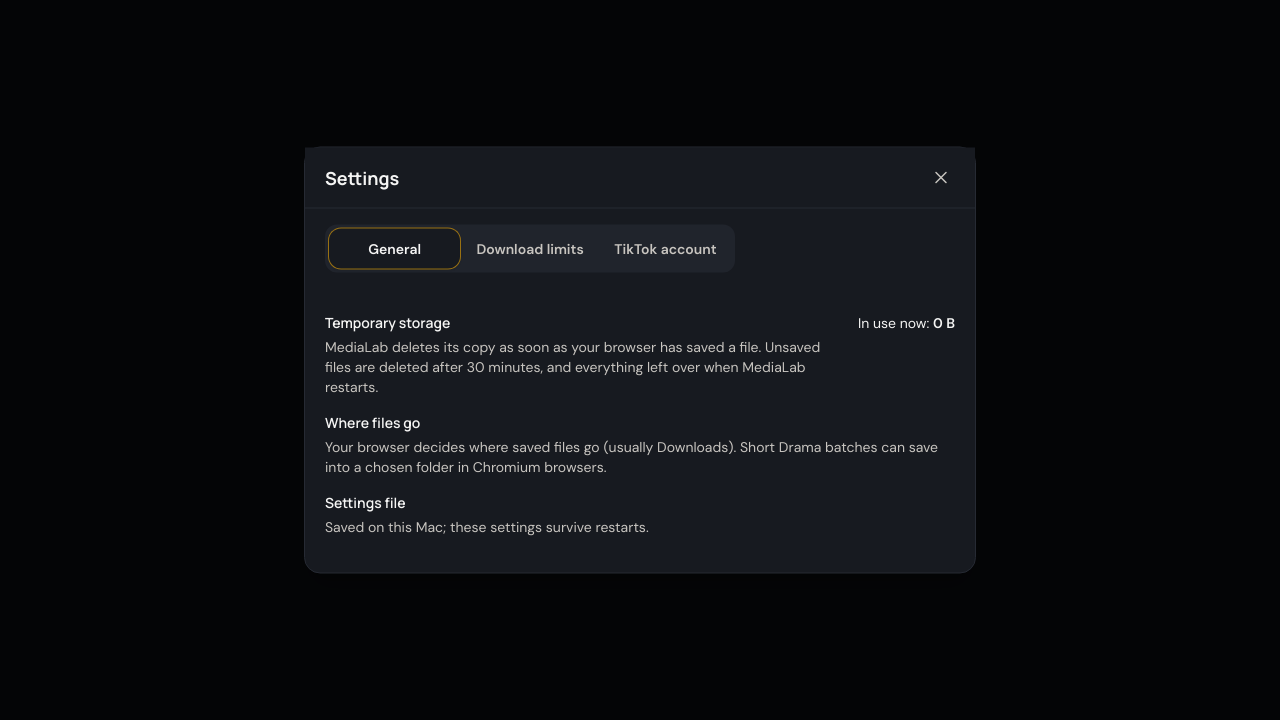
it: Settings dialog › is organised in sections and saves limits through the existing API
Expected: the dialog "Settings" is shown, [304, 146, 976, 574]
Click the tab "Download limits".
click(530, 248)  # box [464, 228, 596, 268]
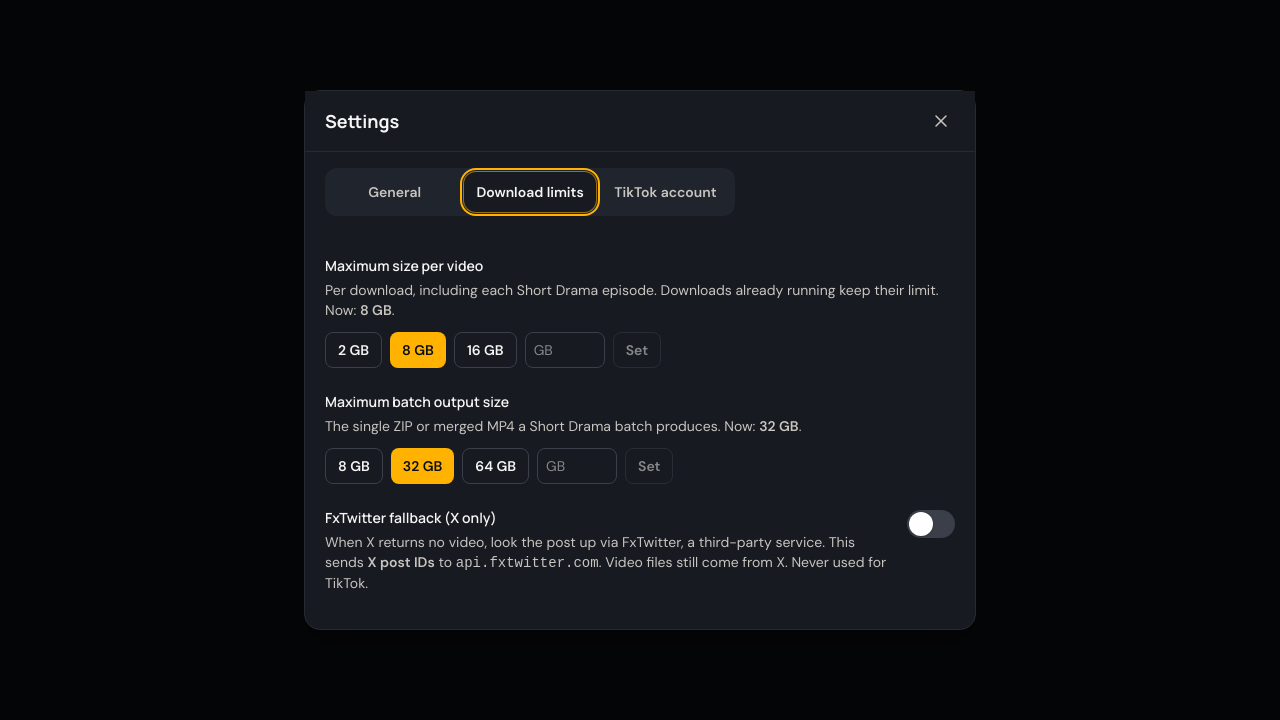
Click the button "16 GB".
click(485, 350)  # box [454, 332, 517, 368]
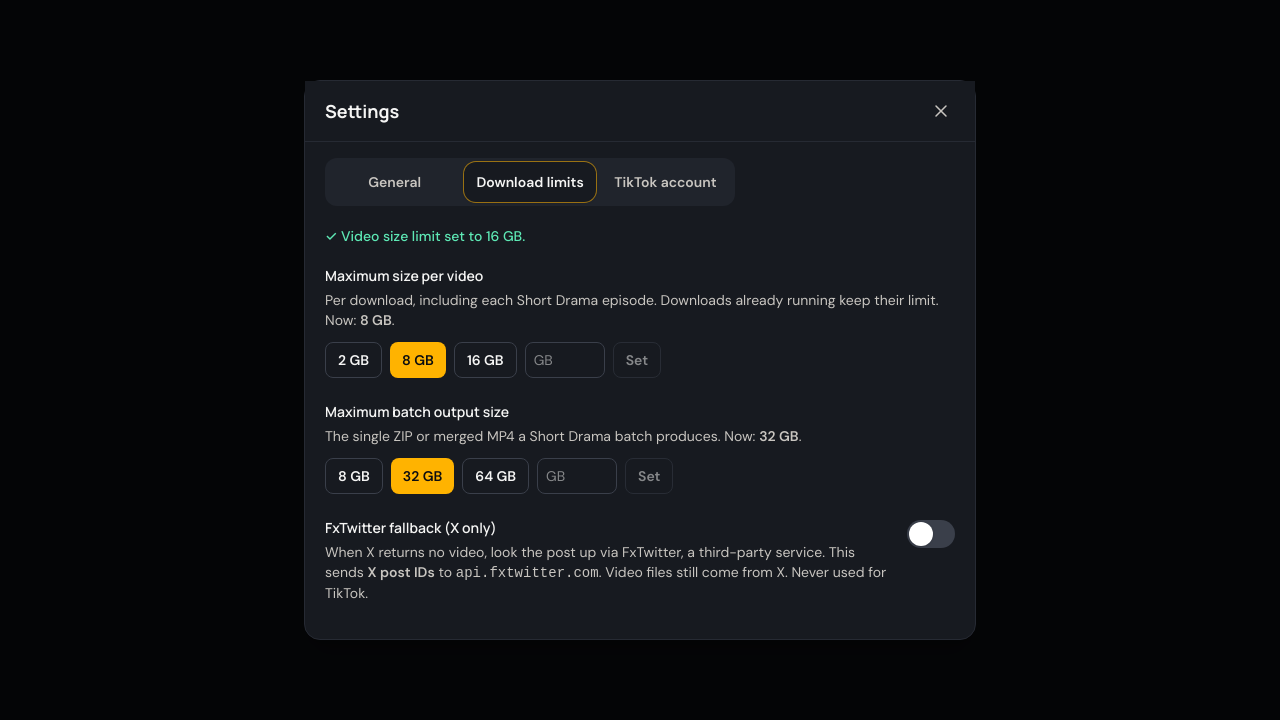
Expected: the text "✓ Video size limit set to 16 GB." is shown, [325, 227, 525, 245]
